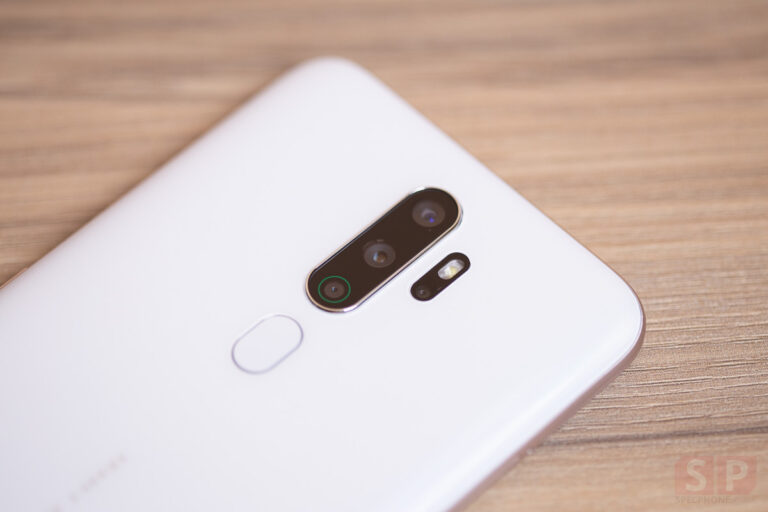Phone: (2, 56, 653, 512)
